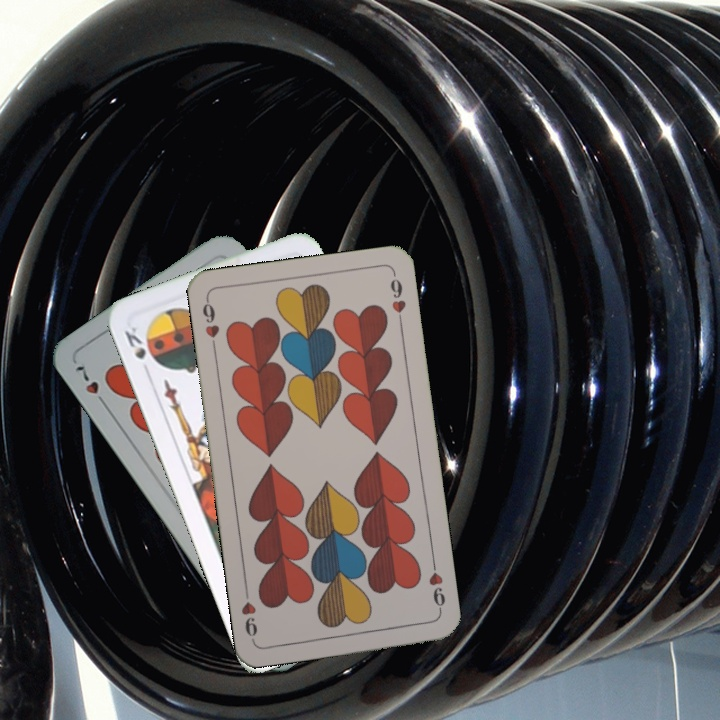H7: (70, 361, 111, 411)
H9: (198, 295, 222, 354), (424, 557, 448, 616)
SK: (120, 322, 149, 362)
